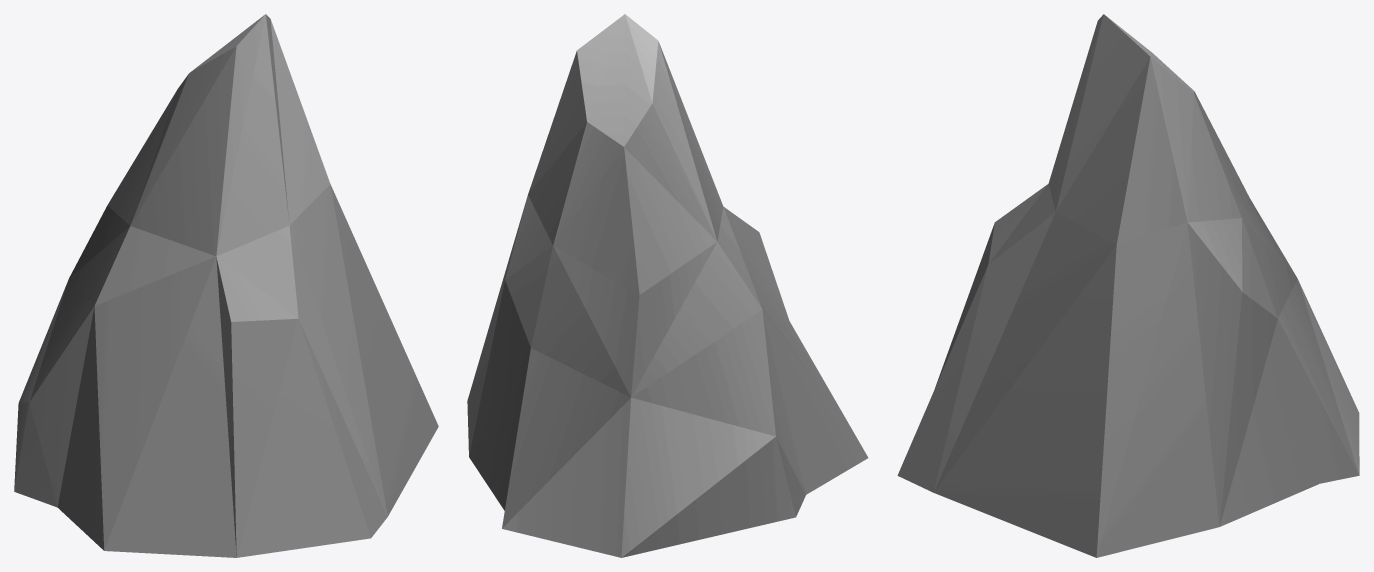
Rendered from GL-Rock-02-LOD2.fbx.
The picture shows the model from 3 angles, left to right: view 1: azimuth 30°, elevation 25°; view 2: azimuth 150°, elevation 25°; view 3: azimuth 270°, elevation 25°; orthographic projection. The views are drawn at different scales.
Parts seen in each view (by area): view 1: GL_Rock_02; view 2: GL_Rock_02; view 3: GL_Rock_02.
Boxes of the visible parts, x1,y1,x2,y2 form: GL_Rock_02: (14, 14, 438, 557); GL_Rock_02: (467, 14, 868, 557); GL_Rock_02: (897, 14, 1359, 557).
Bounding box in the file's own units: 3.17 × 3.55 × 3.23.
